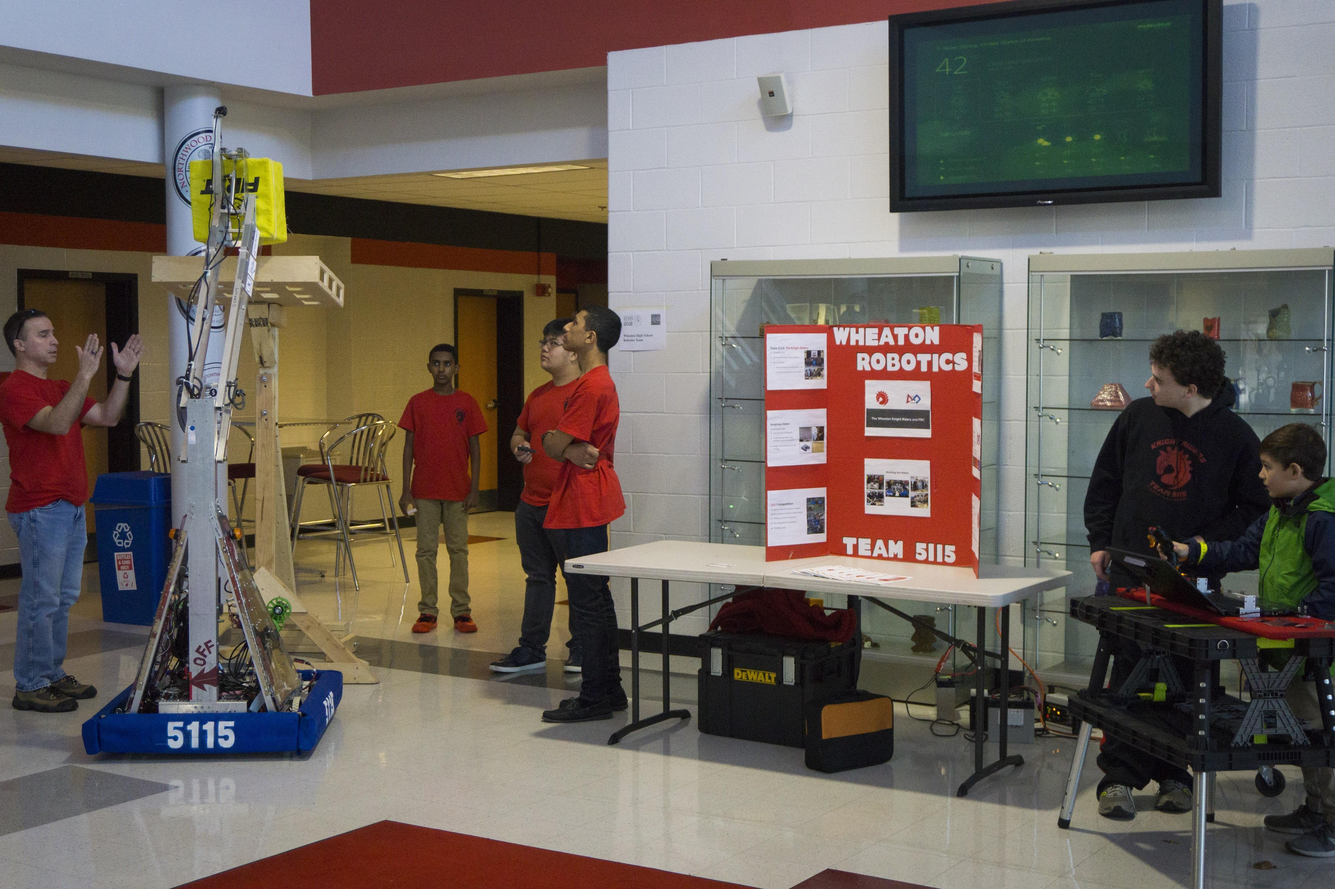robot: (76, 96, 349, 768)
